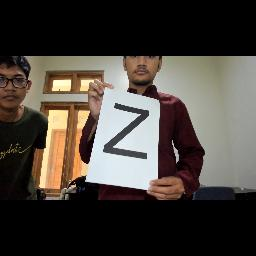z: (102, 98, 152, 162)
